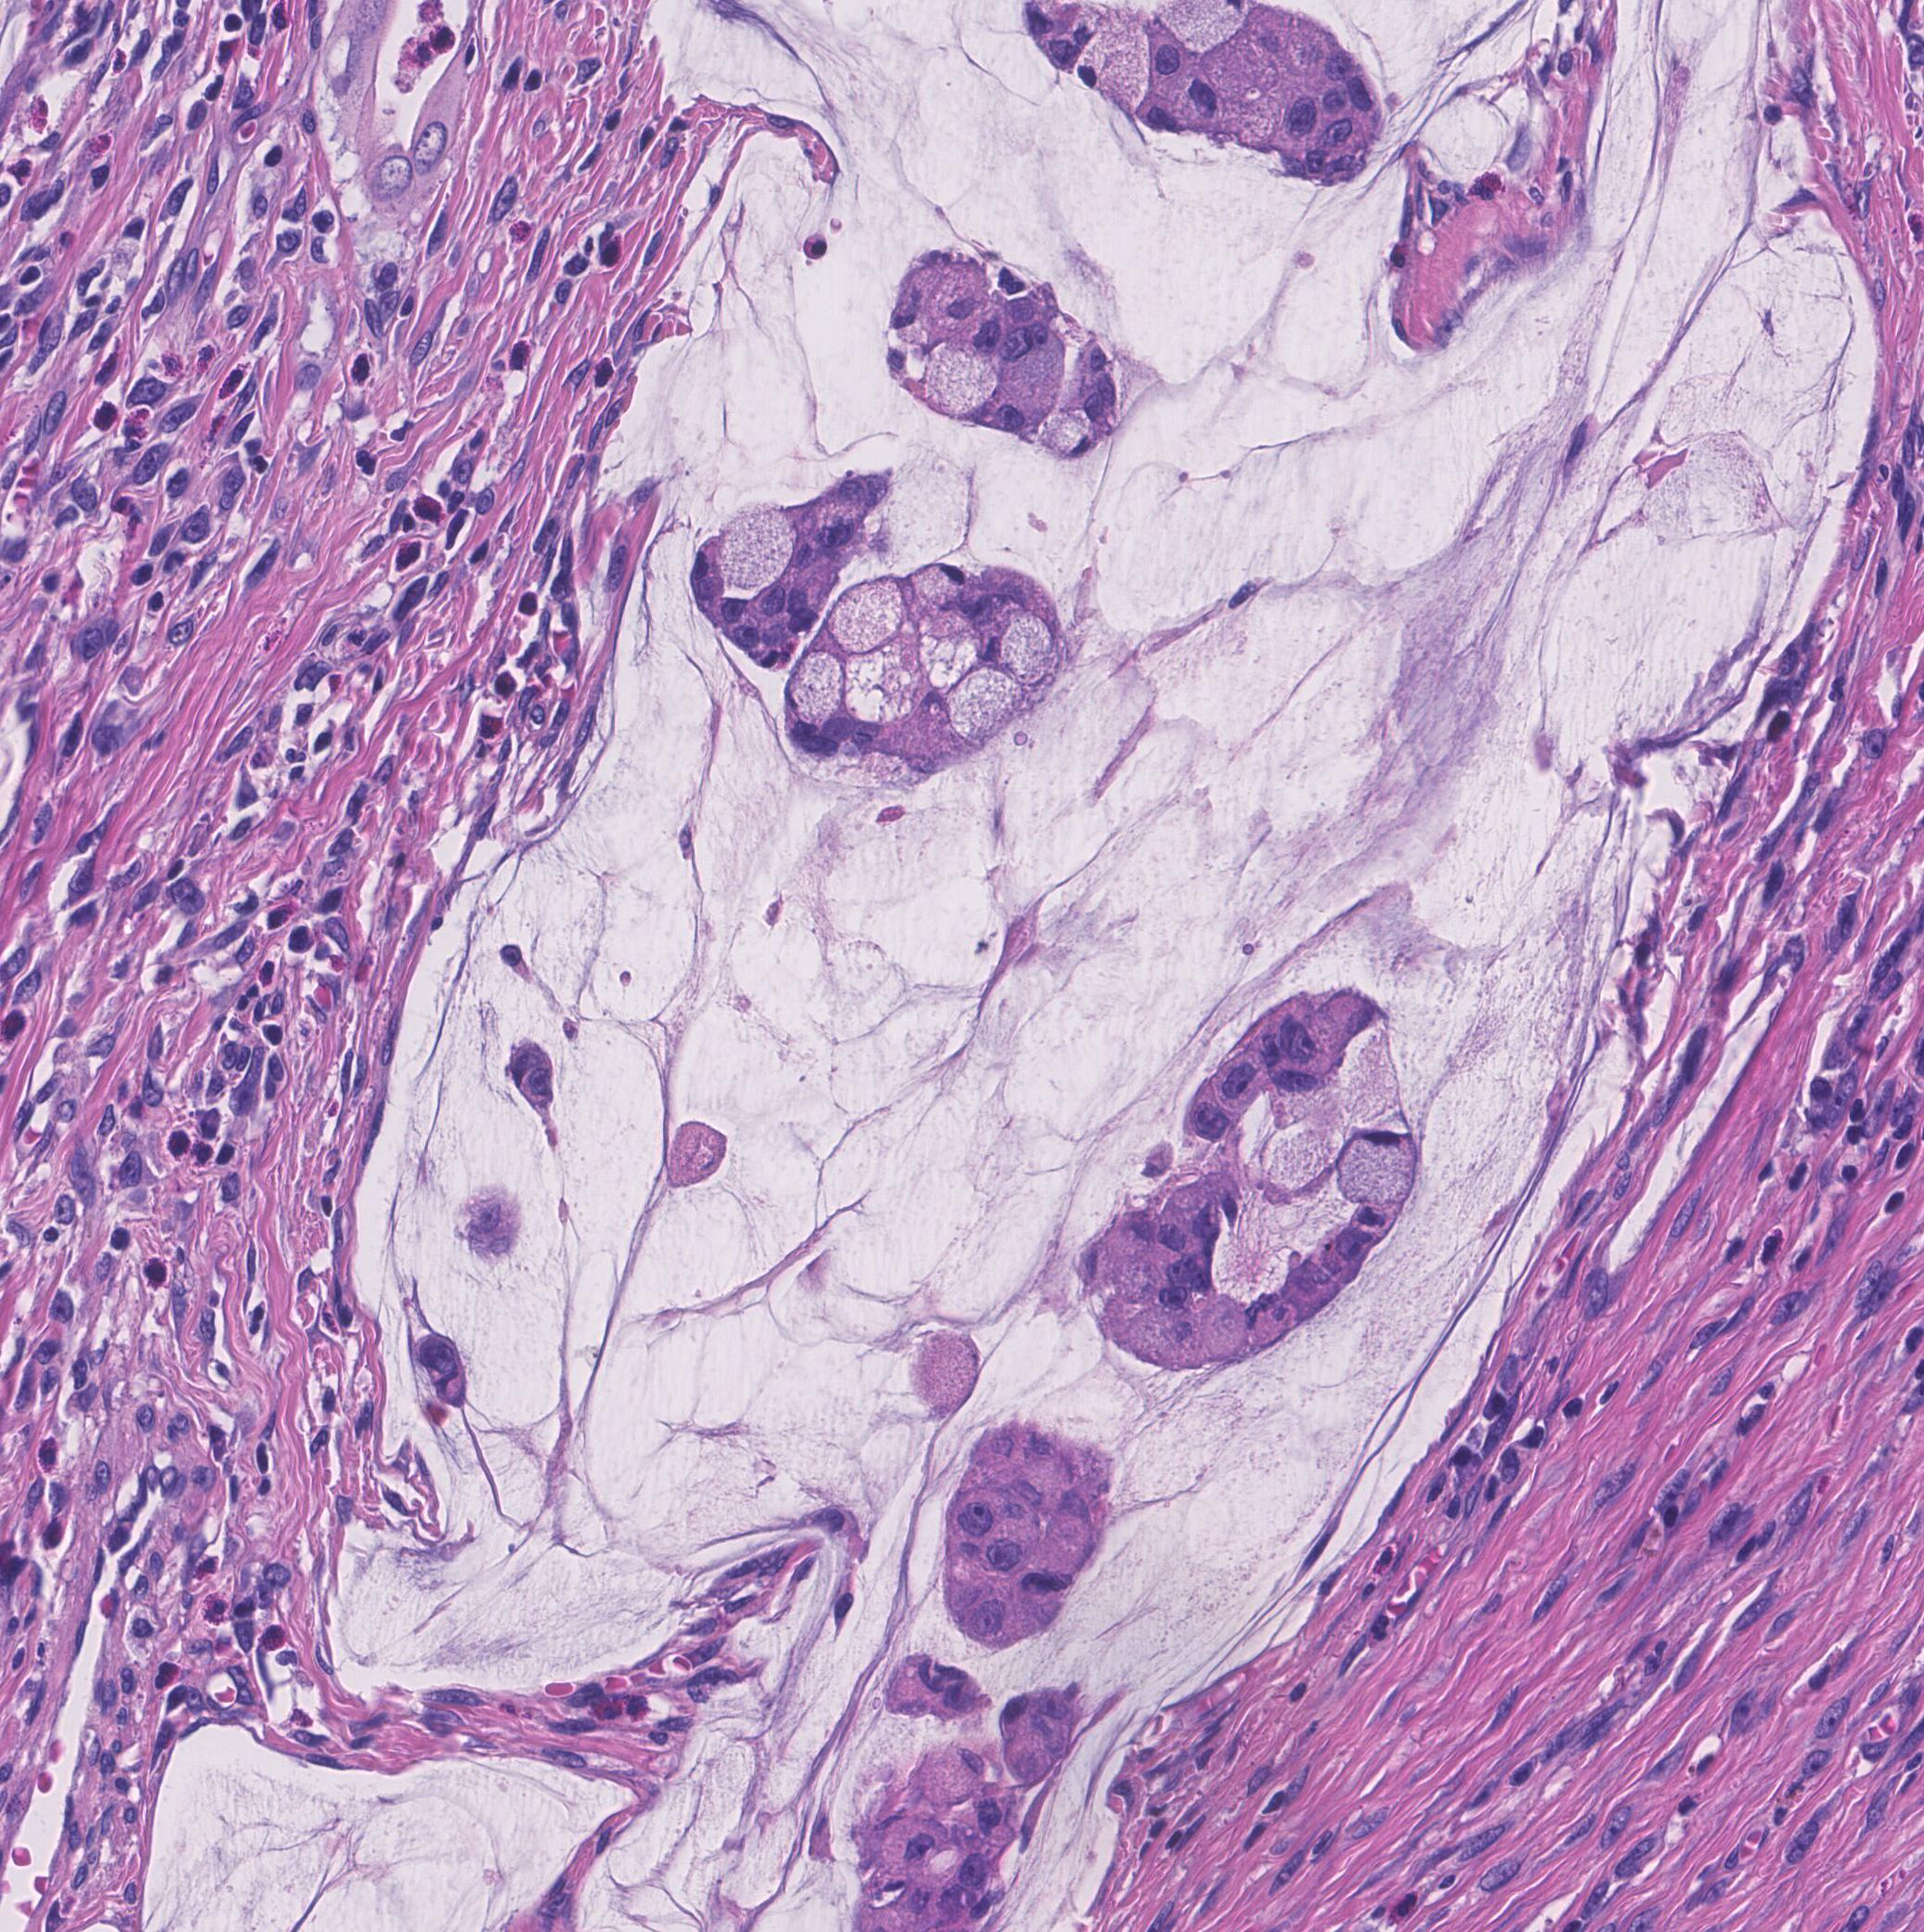ring_cell_cancer: (1068, 28, 1149, 107), (929, 345, 997, 428), (1346, 1127, 1417, 1203), (1006, 1696, 1069, 1775), (923, 1749, 988, 1802), (877, 1809, 939, 1862), (1041, 412, 1096, 458), (913, 567, 967, 609)
